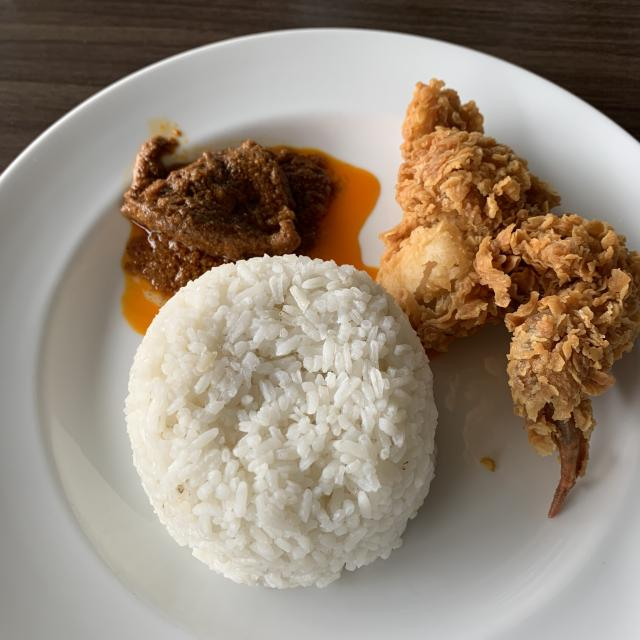Wet Waste: (371, 79, 640, 515), (124, 251, 432, 584), (115, 138, 345, 297)
